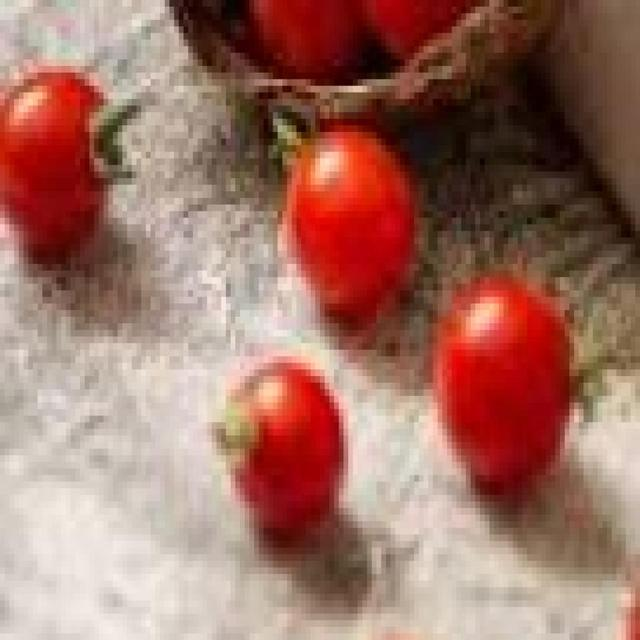Healthy Fruit: (40, 92, 340, 289)
